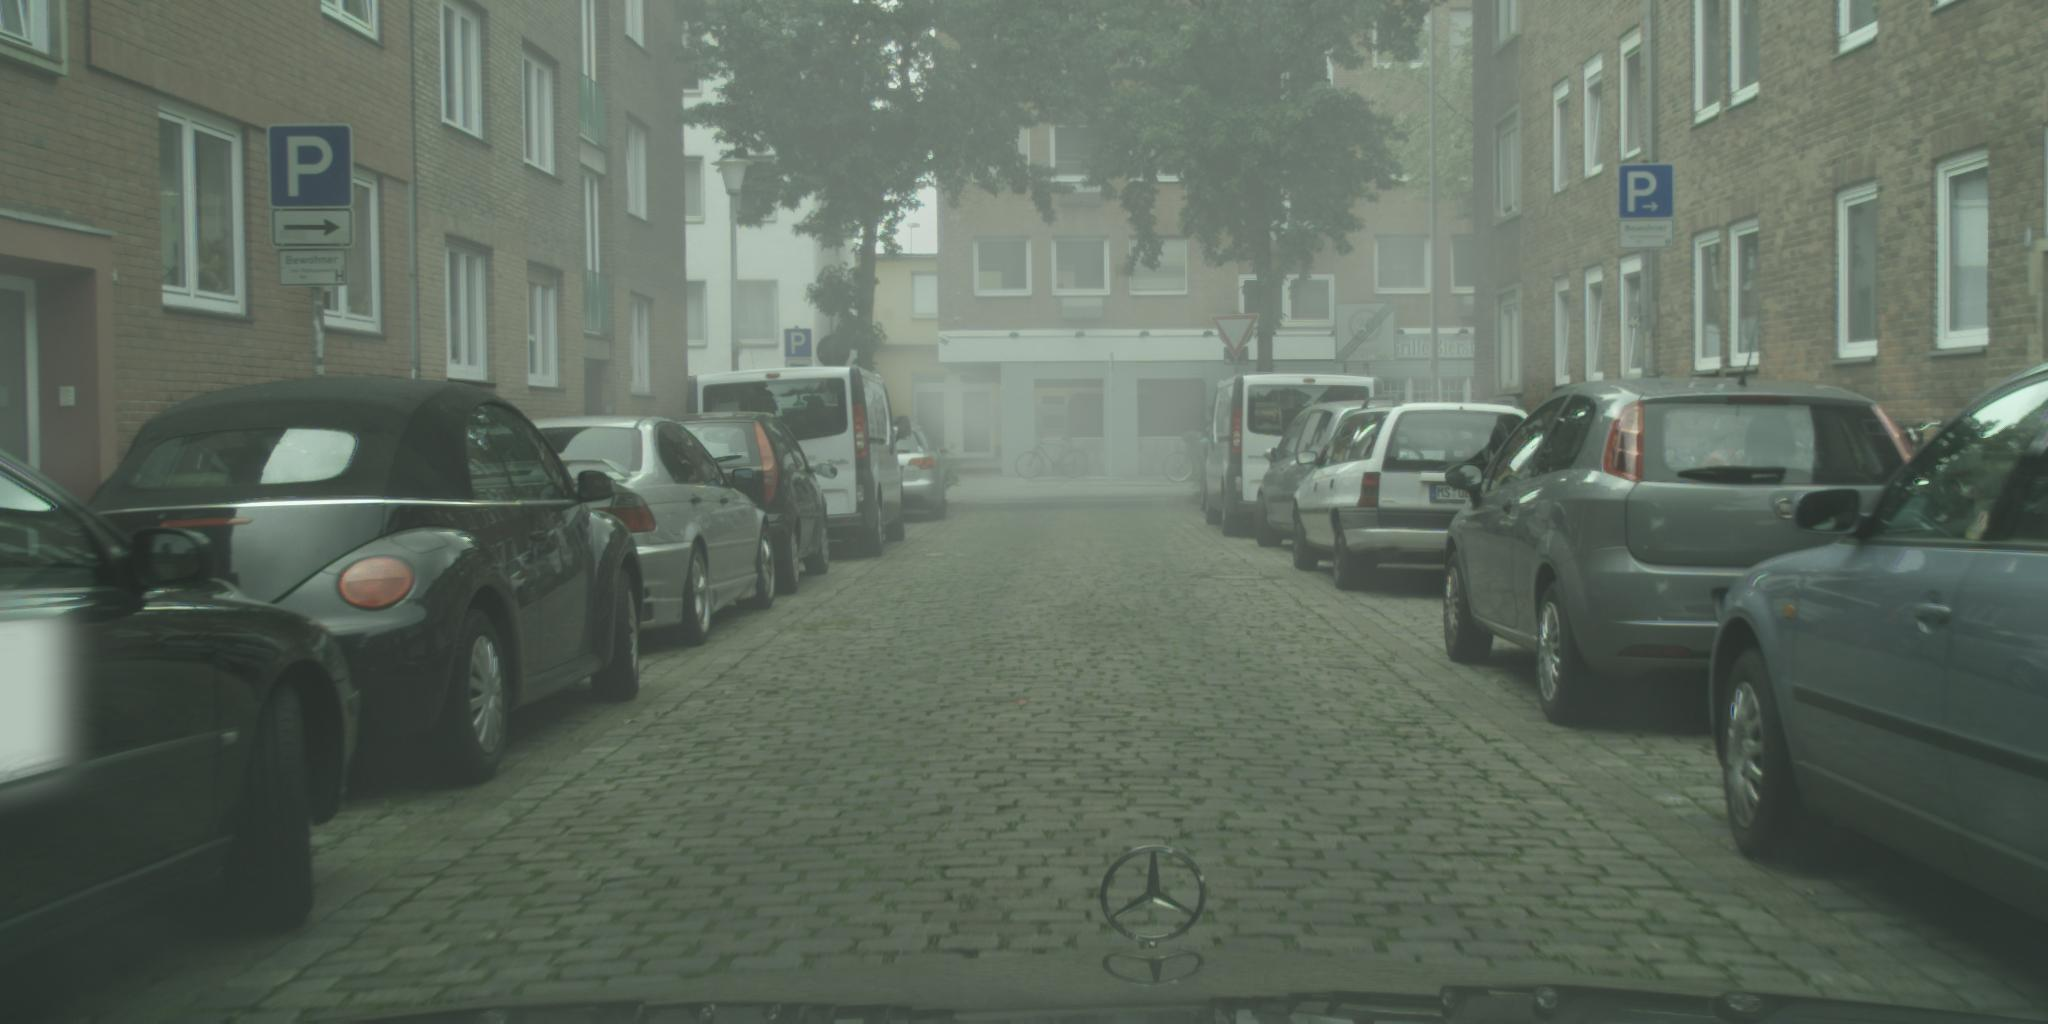bicycle: (1016, 431, 1091, 479), (1162, 421, 1216, 486)
car: (72, 374, 644, 792), (1710, 359, 2048, 923), (1, 449, 360, 964), (1443, 376, 1930, 730), (519, 415, 778, 650), (1292, 404, 1533, 592), (686, 366, 914, 560), (647, 411, 839, 596), (1198, 372, 1388, 538), (1253, 400, 1418, 549), (886, 424, 951, 522)
